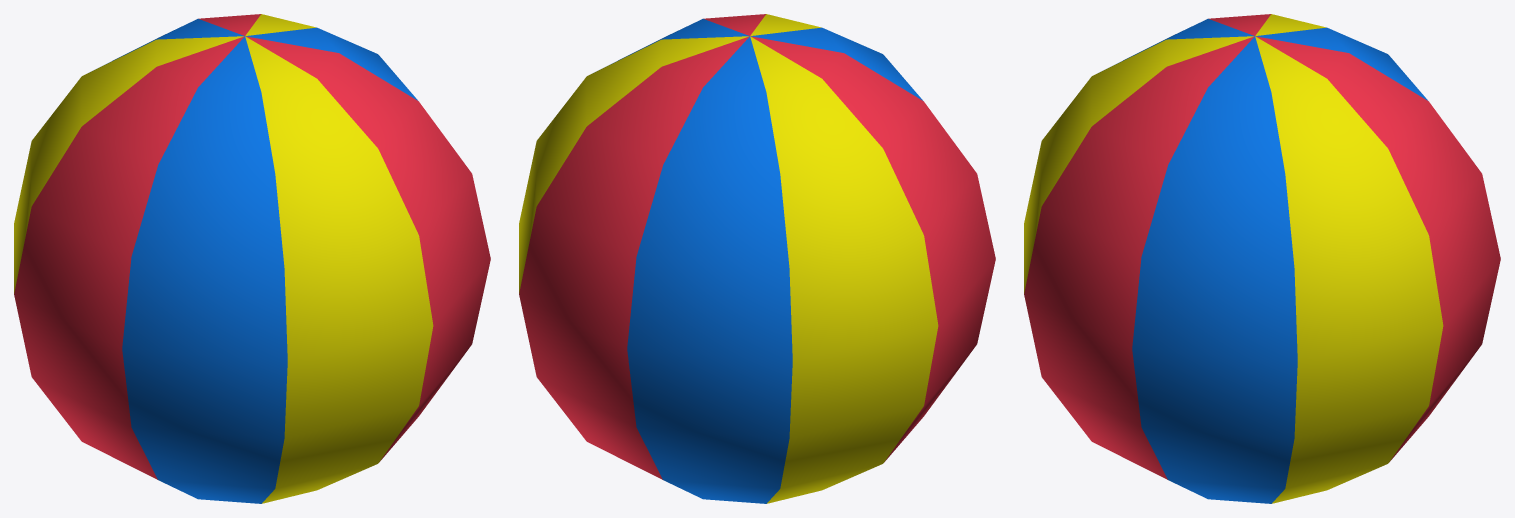
The model's file is BEACH_BALL.fbx.
The picture shows the model from 3 angles, left to right: view 1: azimuth 30°, elevation 25°; view 2: azimuth 150°, elevation 25°; view 3: azimuth 270°, elevation 25°; orthographic projection.
Parts seen in each view (by area): view 1: Sphere_2; view 2: Sphere_2; view 3: Sphere_2.
Boxes of the visible parts, x1,y1,x2,y2 form: Sphere_2: (14,14,490,503); Sphere_2: (519,14,995,503); Sphere_2: (1024,14,1500,503).
Bounding box in the file's own units: 93.04 × 94.47 × 91.62.
